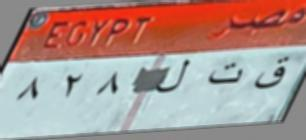2: (59, 70, 87, 106)
8: (13, 72, 45, 110), (94, 65, 126, 100)
laam: (156, 56, 195, 100)
qaaf: (255, 55, 295, 92)
taa: (206, 58, 246, 86)
